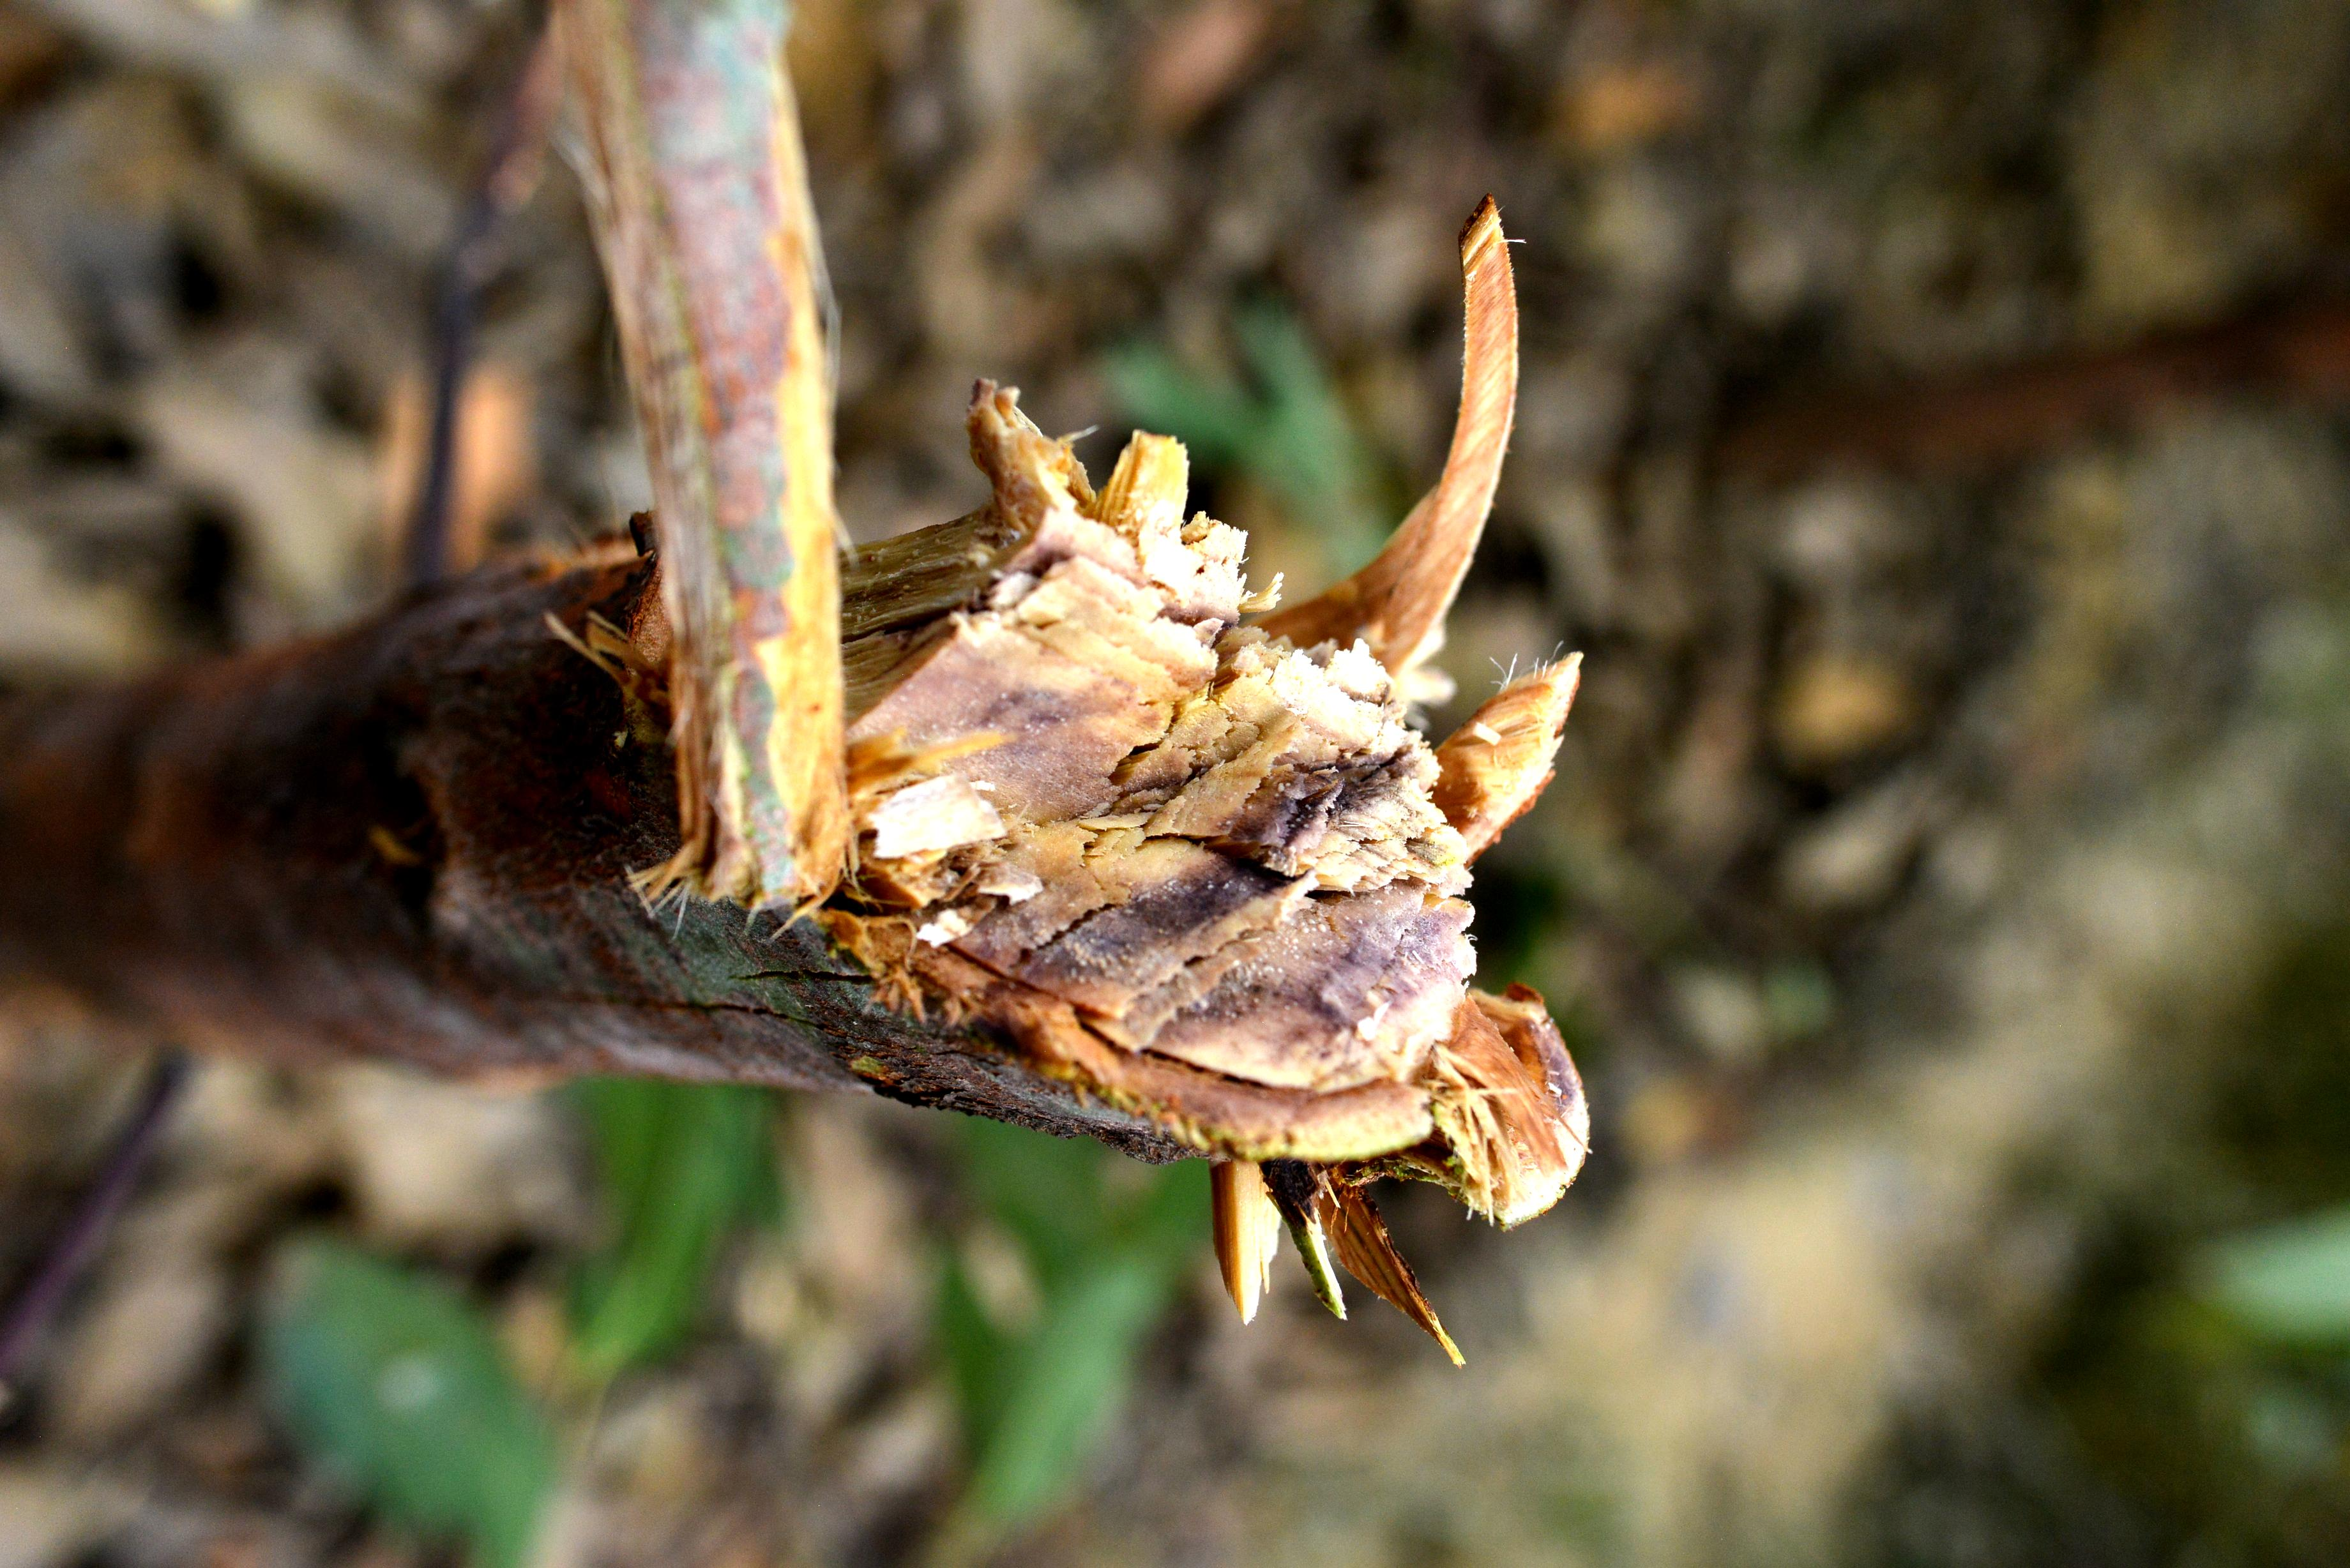Ralstonia: (1165, 898, 1353, 1025), (975, 672, 1071, 749), (1045, 922, 1146, 985)
